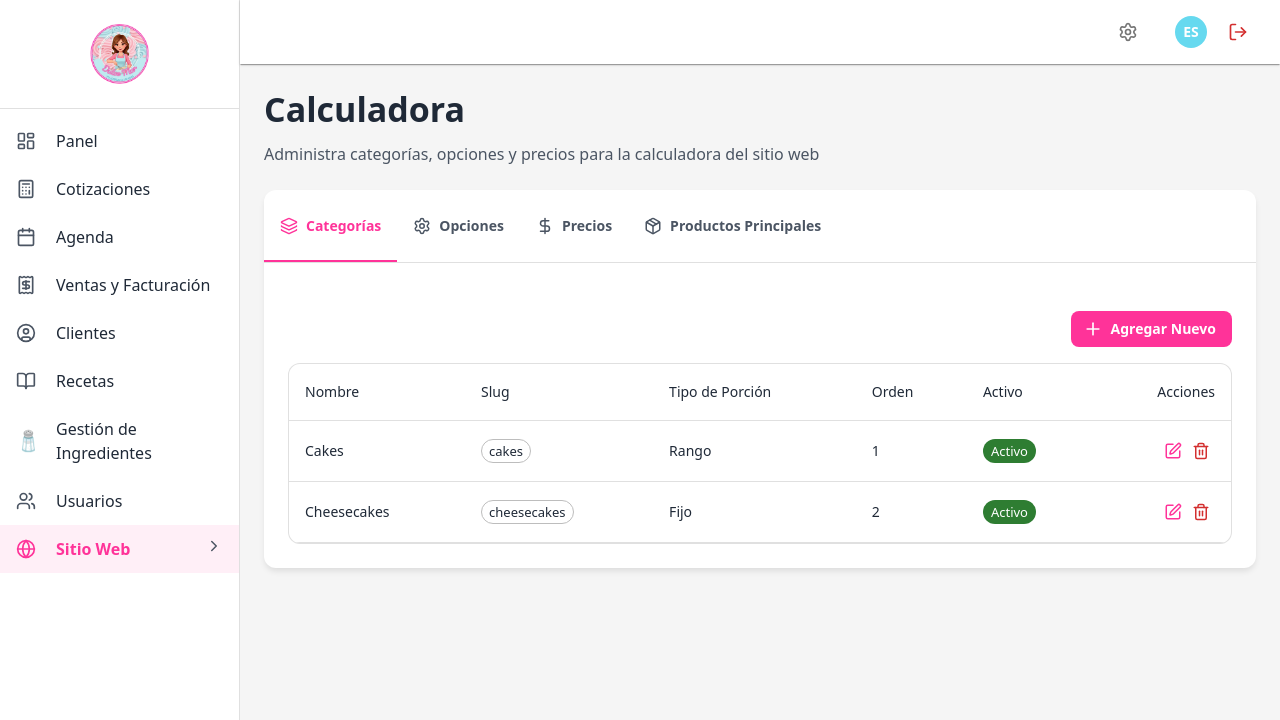
Test: Calculator Products Management › Categories Tab › should open edit dialog when clicking edit button
Click the button named "Editar" in the row of "Rango": (1173, 451) x1=1159 y1=437 x2=1187 y2=465
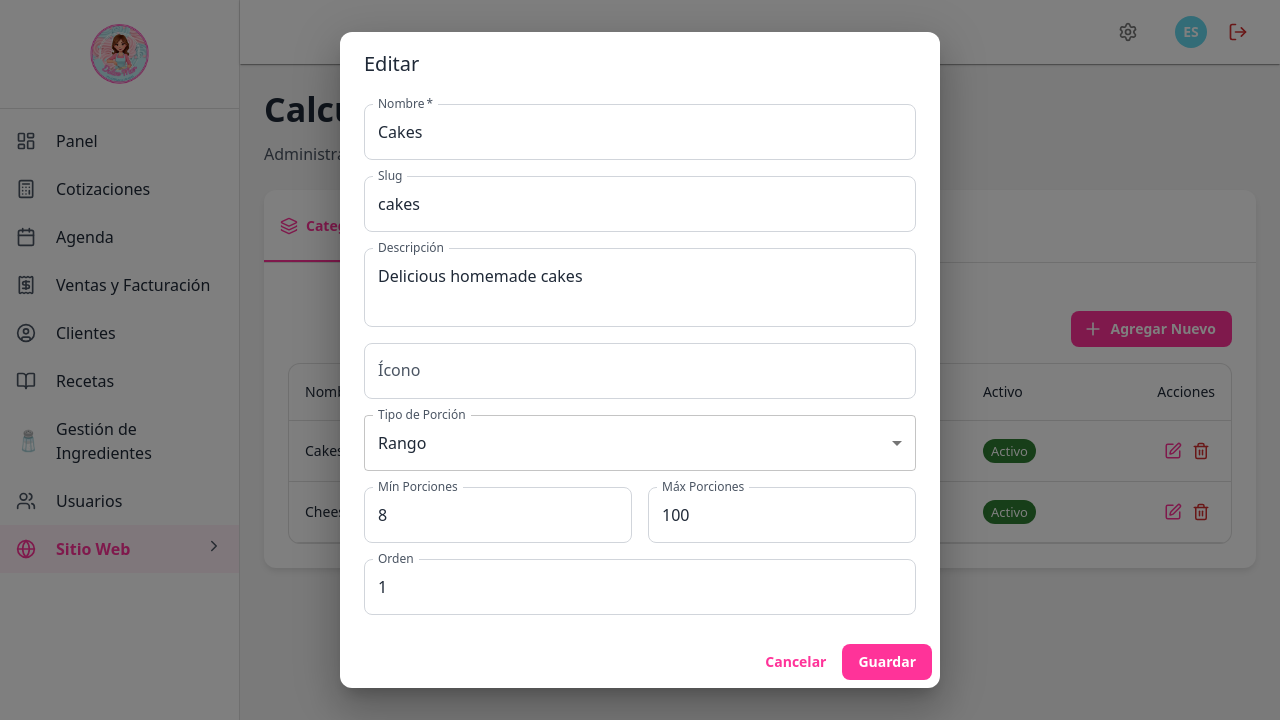
Check: the dialog is shown, box x1=340 y1=32 x2=940 y2=688
Check: the heading "Editar" is shown, box x1=364 y1=50 x2=419 y2=77
